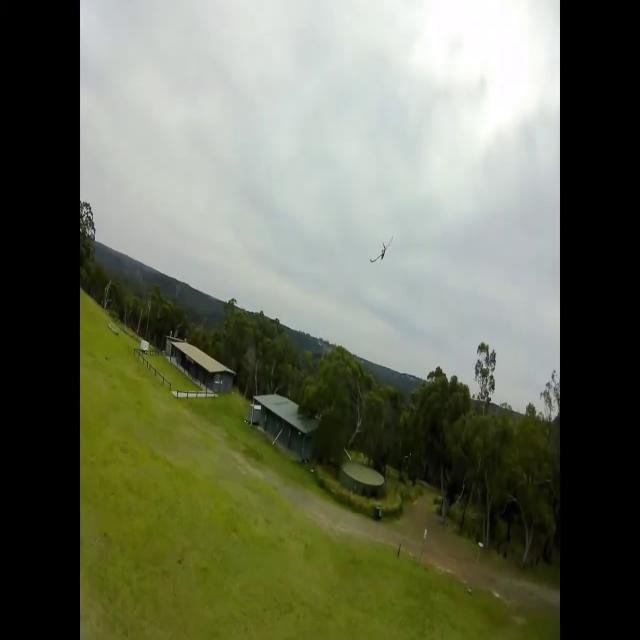iha: (369, 239, 392, 264)
